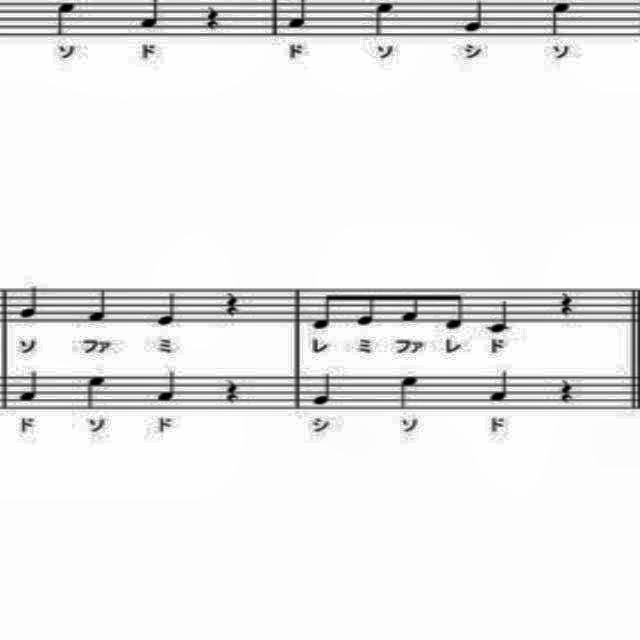Eighth-note: (350, 280, 382, 332), (312, 288, 341, 336), (441, 286, 469, 334), (396, 286, 420, 330)
Quarter-note: (152, 284, 184, 334), (78, 370, 110, 416), (16, 366, 48, 406), (487, 367, 518, 408), (83, 283, 111, 325), (393, 373, 423, 411), (50, 0, 80, 38), (370, 1, 402, 36), (153, 368, 183, 404), (486, 298, 516, 334), (311, 368, 337, 408), (462, 1, 491, 35), (18, 282, 42, 322)
Quarter-rest: (556, 282, 582, 322), (216, 286, 244, 322), (221, 377, 247, 407), (200, 2, 224, 32), (558, 374, 580, 406)
